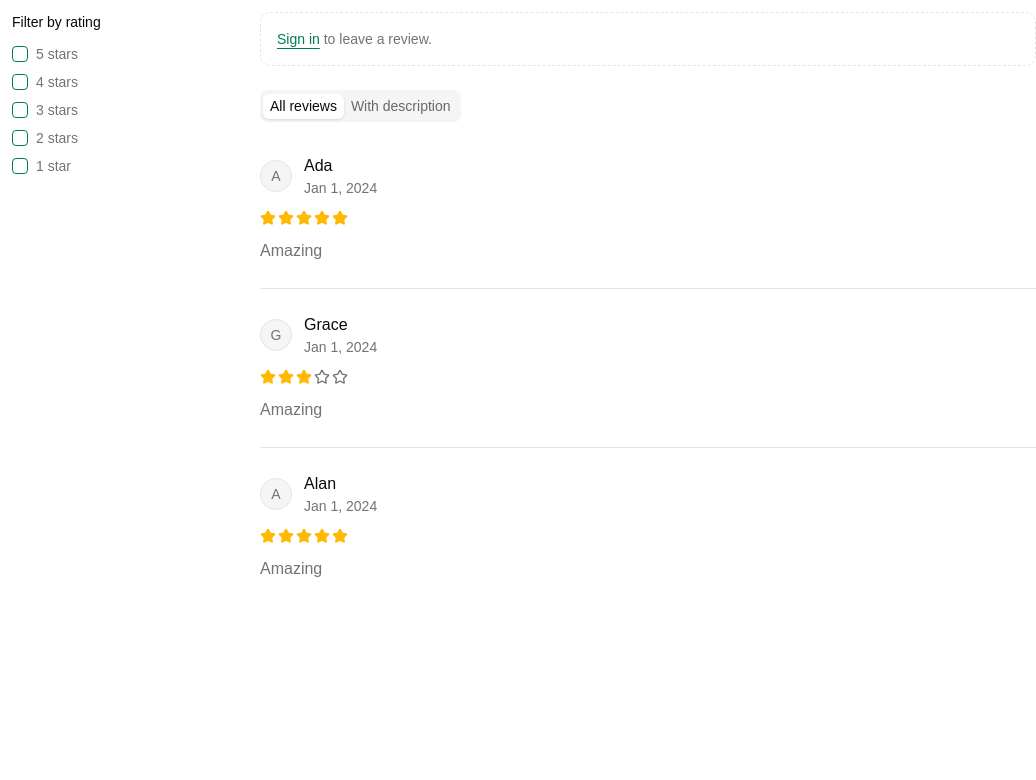
ReviewList › narrows the list to reviews matching a checked star rating
Click the 1st checkbox named "5 stars". click: click(20, 54)
box: [12, 46, 28, 62]
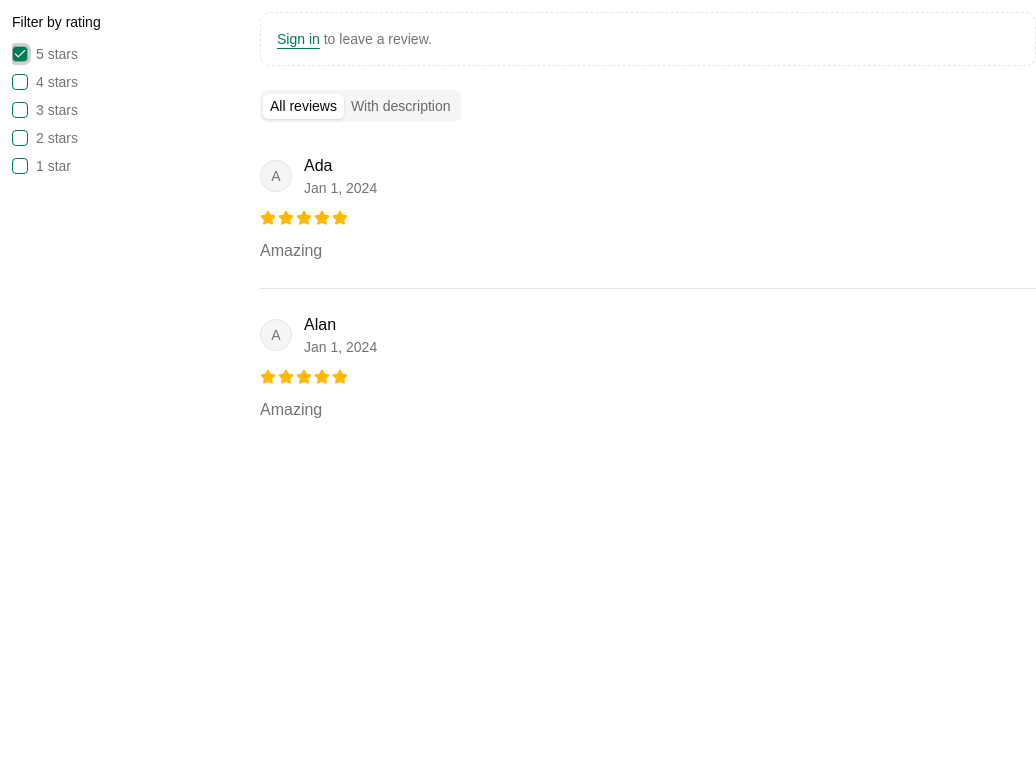
Expected: the text "Ada" is shown, [304, 157, 332, 174]
Result: the text "Grace" is gone
